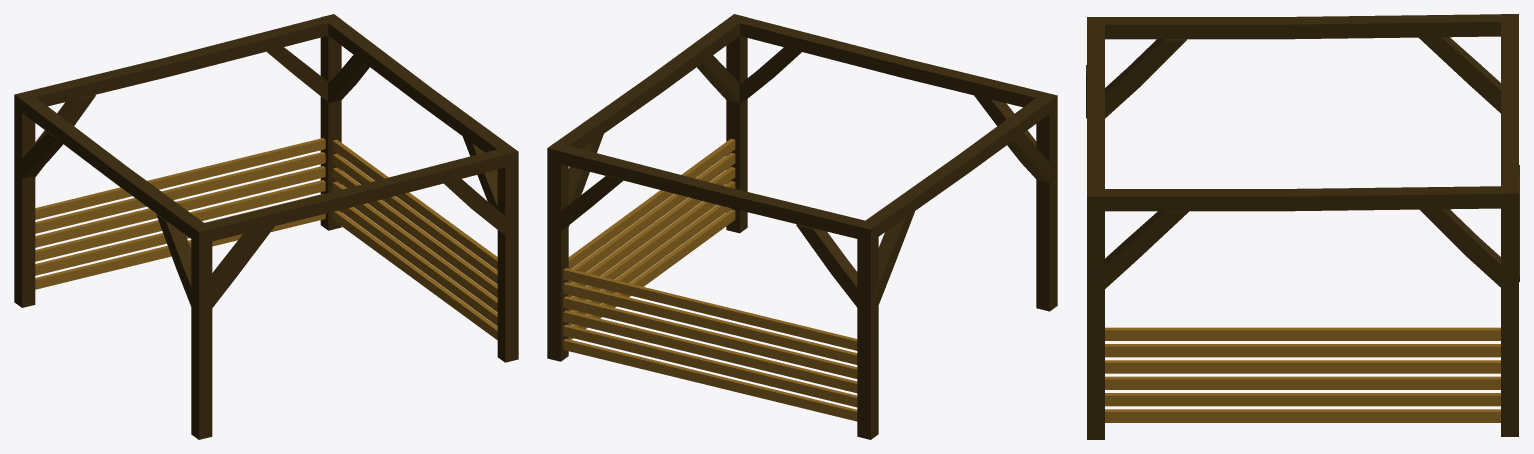
Rendered from konstrukcija.FBX.
The picture shows the model from 3 angles, left to right: view 1: azimuth 30°, elevation 25°; view 2: azimuth 150°, elevation 25°; view 3: azimuth 270°, elevation 25°; orthographic projection. The views are drawn at different scales.
Parts seen in each view (by area): view 1: Box598, Box1526, Box608; view 2: Box598, Box1526, Box608; view 3: Box598, Box608.
Boxes of the visible parts, x1,y1,x2,y2 form: Box598: (14, 14, 518, 439); Box1526: (35, 138, 325, 289); Box608: (332, 139, 497, 339); Box598: (547, 14, 1057, 439); Box1526: (563, 268, 857, 421); Box608: (568, 138, 735, 339); Box598: (1086, 14, 1519, 439); Box608: (1105, 327, 1500, 422).
Bounding box in the file's own units: 361 × 229 × 361.
